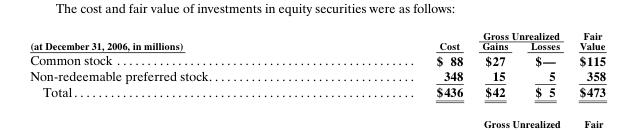table: (29, 28, 605, 99)
table column: (29, 28, 323, 99), (323, 28, 471, 99), (518, 28, 569, 99), (471, 28, 518, 99), (569, 28, 605, 99)
table column header: (29, 28, 605, 51)
table row: (29, 51, 605, 67), (29, 67, 605, 83), (29, 83, 605, 99), (29, 28, 605, 40), (29, 40, 605, 51)
table spanning cell: (29, 28, 323, 51), (323, 28, 471, 51), (471, 28, 569, 40), (569, 28, 605, 51)
